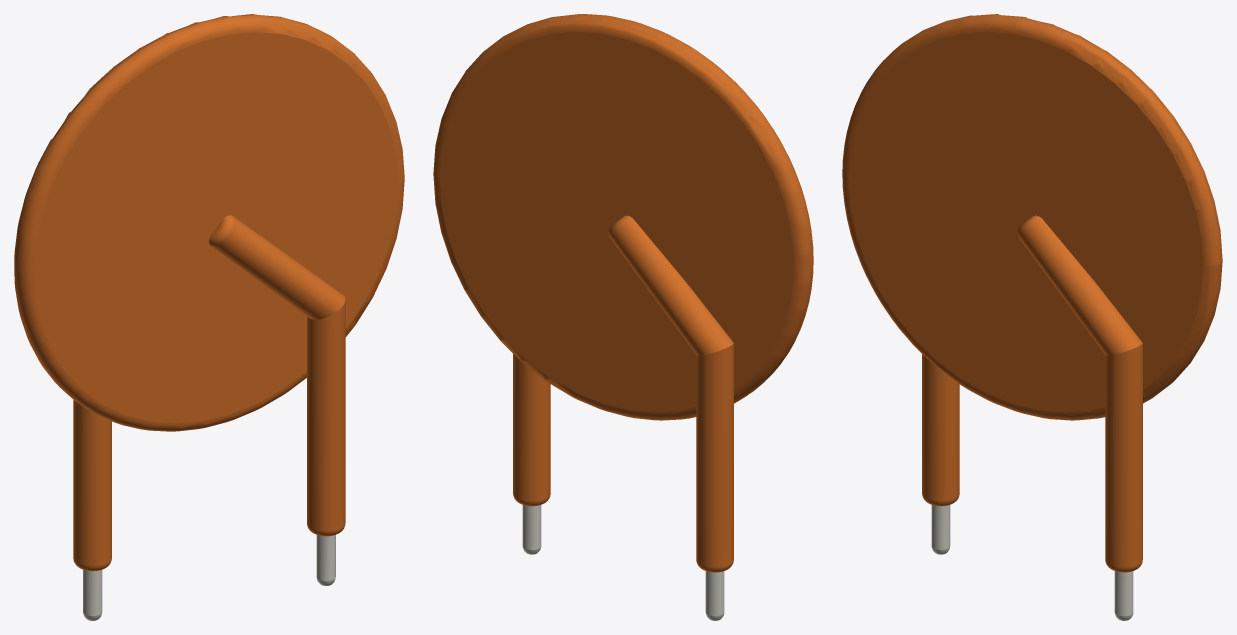
File: kc-fuse_belfuse_0zre_0zre0100ff_l18.7mm_w5.1mm.glb
3 renders of one model, left to right at view 1: azimuth 30°, elevation 25°; view 2: azimuth 150°, elevation 25°; view 3: azimuth 330°, elevation 25°, orthographic. The views are drawn at different scales.
Parts seen in each view (by area): view 1: 0.5833333333333334_0.16666666666666666_0_0, 0.6666666666666666_0.6666666666666666_0.5833333333333334_0.8; view 2: 0.5833333333333334_0.16666666666666666_0_0, 0.6666666666666666_0.6666666666666666_0.5833333333333334_0.8; view 3: 0.5833333333333334_0.16666666666666666_0_0, 0.6666666666666666_0.6666666666666666_0.5833333333333334_0.8.
Boxes of the visible parts, bbox=[...] form: 0.5833333333333334_0.16666666666666666_0_0: bbox=[14, 14, 404, 571]; 0.6666666666666666_0.6666666666666666_0.5833333333333334_0.8: bbox=[83, 535, 335, 620]; 0.5833333333333334_0.16666666666666666_0_0: bbox=[433, 14, 813, 572]; 0.6666666666666666_0.6666666666666666_0.5833333333333334_0.8: bbox=[522, 505, 724, 620]; 0.5833333333333334_0.16666666666666666_0_0: bbox=[842, 14, 1222, 572]; 0.6666666666666666_0.6666666666666666_0.5833333333333334_0.8: bbox=[931, 505, 1133, 620].
Size of the model in its own units: 1.87 by 2.69 by 0.352.
